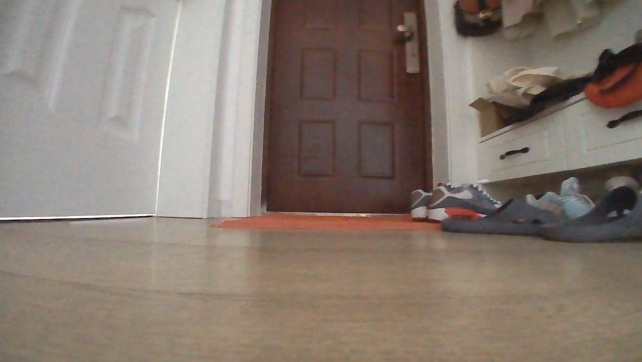blanket: (209, 211, 440, 234)
door_anno: (259, 0, 435, 215)
shoe: (404, 179, 509, 223)
slipper: (538, 183, 641, 246), (439, 194, 555, 237)
